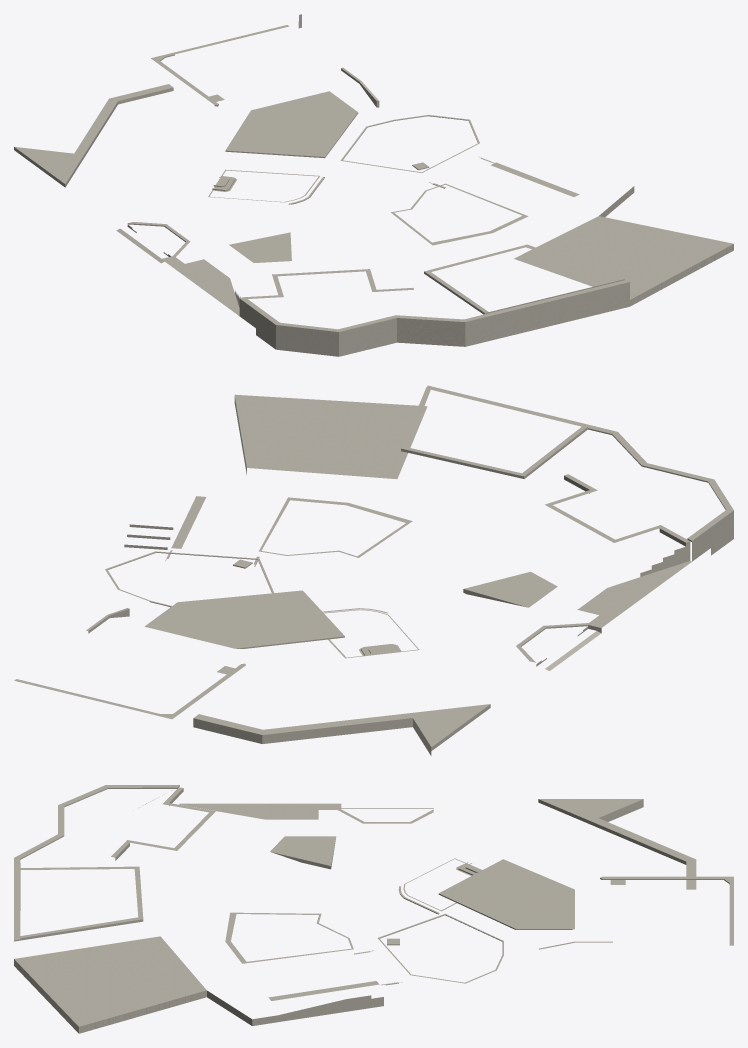
The model's file is kd_stage_135ebf_0_0.glb.
3 views of the same model, one above another, from view 1: azimuth 30°, elevation 25°; view 2: azimuth 150°, elevation 25°; view 3: azimuth 270°, elevation 25° (orthographic). The views are drawn at different scales.
Parts seen in each view (by area): view 1: kd_stage_135ebf_0_0; view 2: kd_stage_135ebf_0_0; view 3: kd_stage_135ebf_0_0.
Part boxes in pixels (bbox=[...]): kd_stage_135ebf_0_0: bbox=[14, 14, 733, 356]; kd_stage_135ebf_0_0: bbox=[14, 385, 733, 755]; kd_stage_135ebf_0_0: bbox=[14, 785, 733, 1033].
Bounding box in the file's own units: 20.71 × 2 × 28.22.
Materials: 1 (1 with a texture image).
